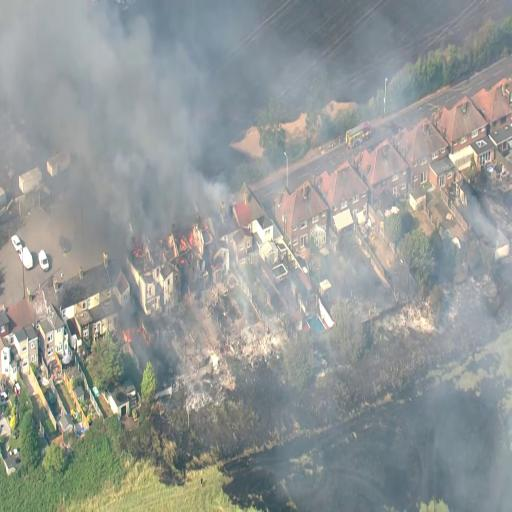smoke: (93, 35, 202, 224), (0, 0, 125, 136)
